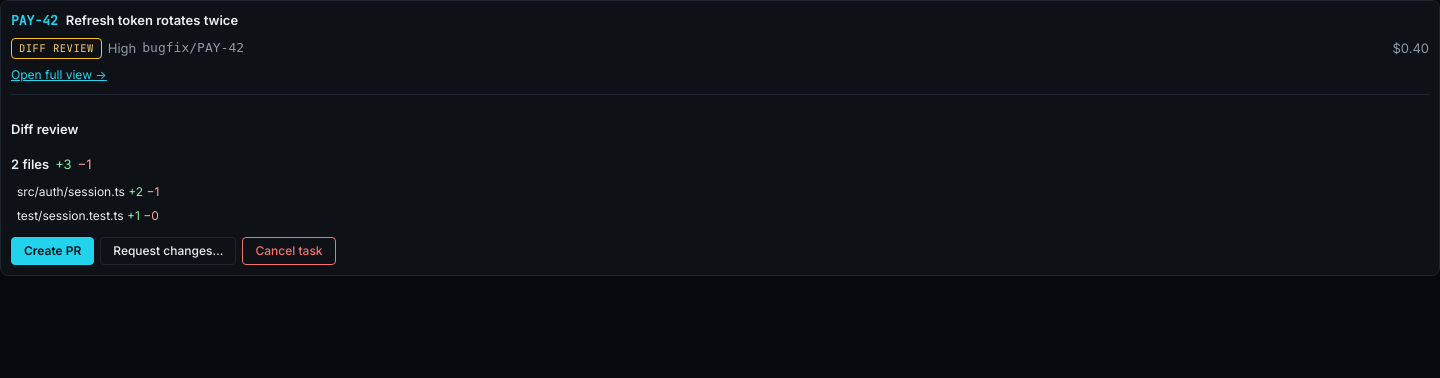
Test: BugPanel › diff gate falls back to the full patch and says so when a file's hunks can't be isolated
The image size is (1440, 378).
Expected: the element with test id "diff-summary" shows "2 files", [11,156,49,172]
Expected: the element with test id "diff-summary" shows "+3", [11,156,92,172]
Click the button "src/auth/session.ts +2 −1".
click(88, 192)  # box [11,180,165,204]
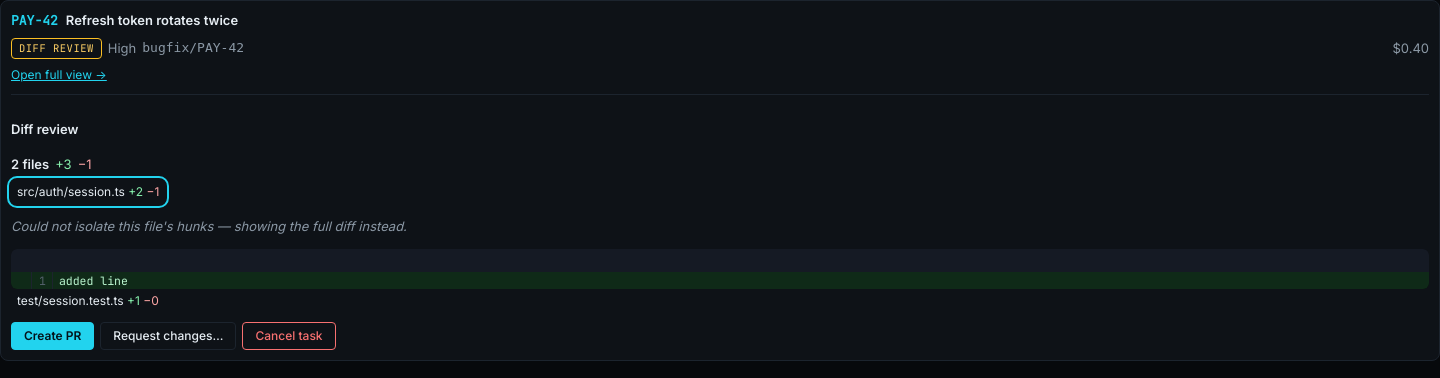
Now the text "added line" is shown, box [52,272,1429,289]
Now the text "Could not isolate this file's hunks" is shown, box [11,218,407,234]
